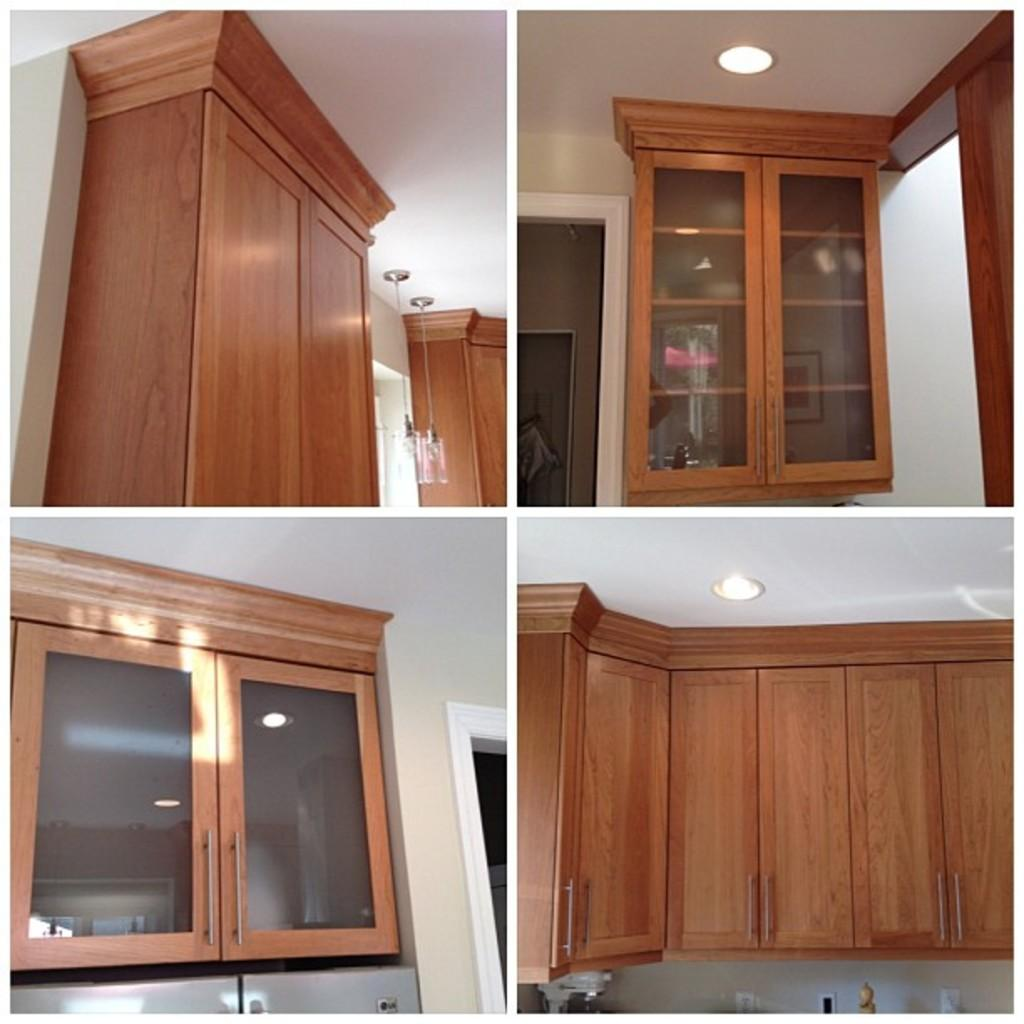cabinet_door: (18, 636, 216, 956), (232, 661, 386, 943), (641, 155, 763, 488), (764, 164, 882, 466), (214, 116, 302, 500), (758, 672, 850, 946), (850, 674, 938, 944), (936, 678, 1024, 938), (670, 674, 754, 944), (586, 667, 666, 944), (306, 215, 376, 505), (566, 643, 588, 966)
handle: (221, 836, 249, 944), (198, 828, 220, 944), (564, 866, 584, 958), (768, 394, 786, 479), (750, 396, 766, 486), (739, 870, 759, 940), (580, 876, 598, 950), (948, 870, 963, 944), (934, 866, 948, 943), (761, 873, 776, 940)
